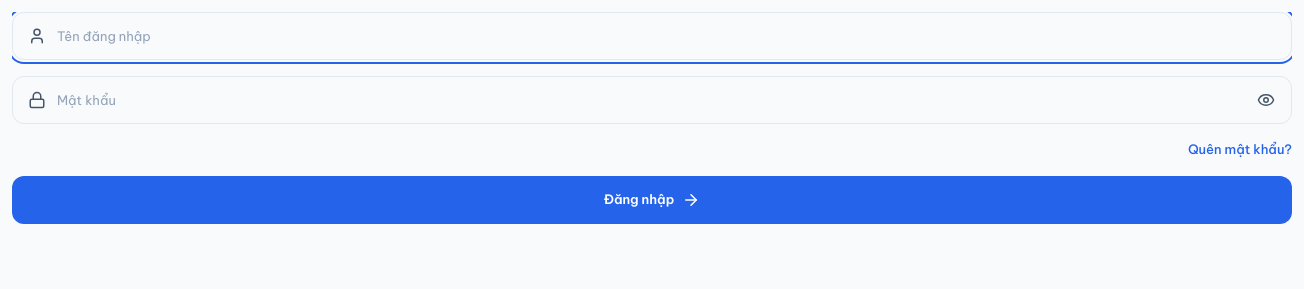
Test case: LoginForm › bắt buộc nhập đủ 2 ô; nút hiện/ẩn mật khẩu
The width and height of the screenshot is (1304, 289).
What coordinates should you click on to do the following:
click the button "Đăng nhập"
I would click on:
 (652, 200)
Its box is top-left (12, 176), bottom-right (1292, 224).
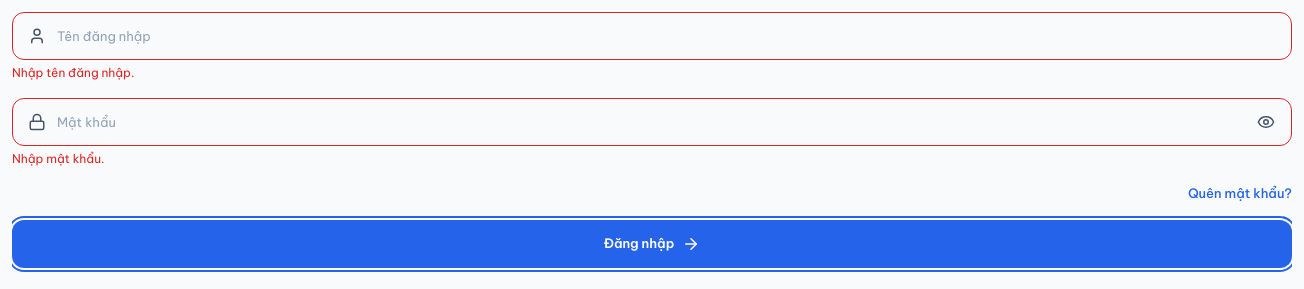
Expected: the text "Nhập tên đăng nhập." is shown, top-left (12, 65), bottom-right (134, 80)
What coordinates should you click on to do the following:
click the button named "Hiện mật khẩu"
I would click on:
 (1266, 122)
Its box is top-left (1244, 100), bottom-right (1288, 144).
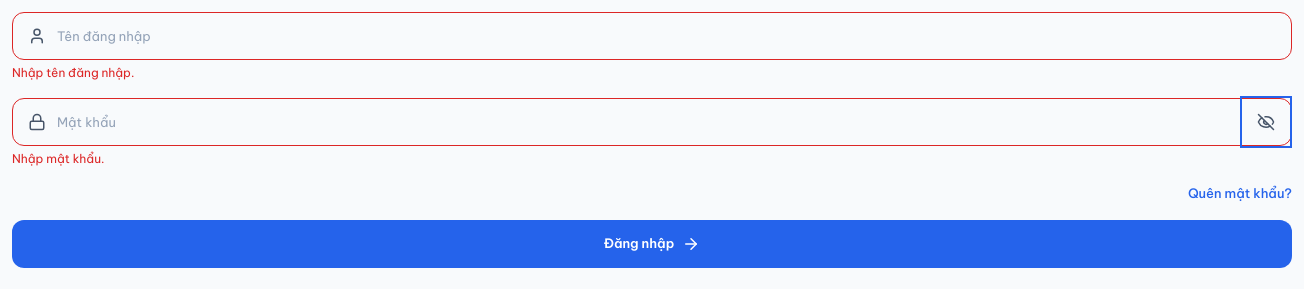
Expected: the button named "Ẩn mật khẩu" is shown, top-left (1244, 100), bottom-right (1288, 144)
